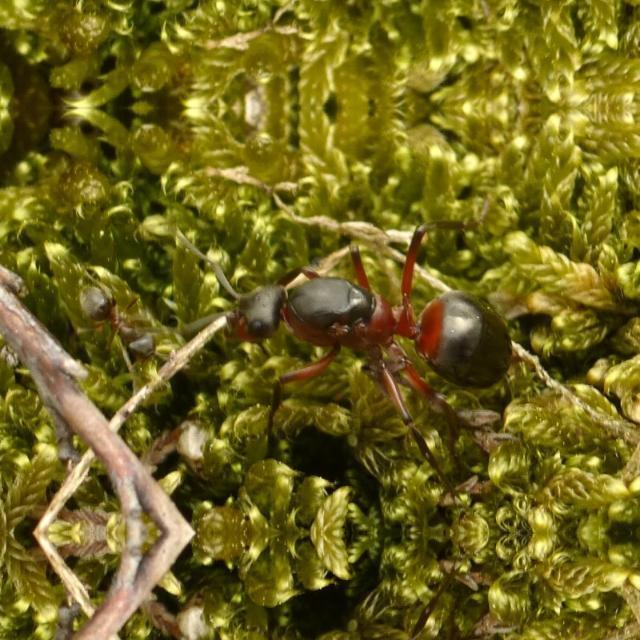Formica: (192, 215, 508, 423)
Lasius: (70, 271, 170, 371)
